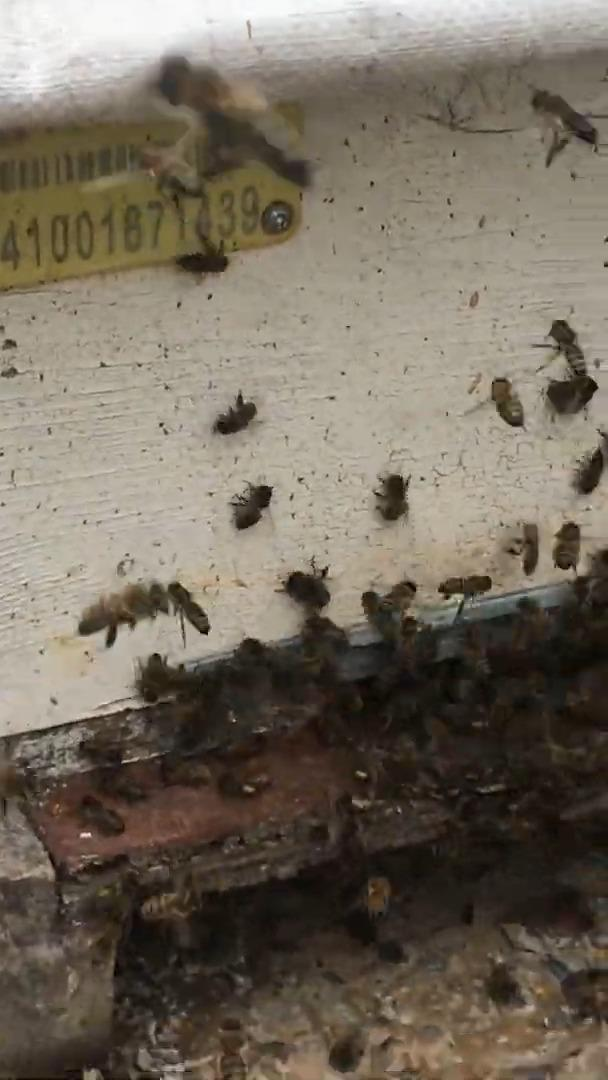worker-bee: (156, 56, 310, 187), (78, 581, 169, 647), (531, 90, 598, 166), (361, 579, 416, 642), (135, 653, 200, 703), (301, 612, 348, 674), (167, 581, 209, 645), (281, 558, 330, 611), (560, 967, 607, 1022), (438, 575, 490, 618), (175, 234, 228, 275), (572, 431, 606, 493), (549, 319, 586, 375), (546, 375, 597, 414), (216, 1017, 247, 1079), (362, 590, 398, 643), (78, 795, 124, 836), (231, 484, 272, 530), (213, 391, 256, 434), (139, 890, 196, 922), (96, 769, 147, 804), (374, 473, 410, 521), (485, 960, 523, 1005), (506, 523, 538, 575), (160, 754, 211, 786), (491, 377, 523, 426), (79, 732, 122, 767), (217, 770, 271, 797), (0, 757, 24, 816), (553, 521, 580, 570), (438, 575, 492, 599), (363, 876, 390, 918), (385, 578, 416, 613), (522, 523, 538, 575)
